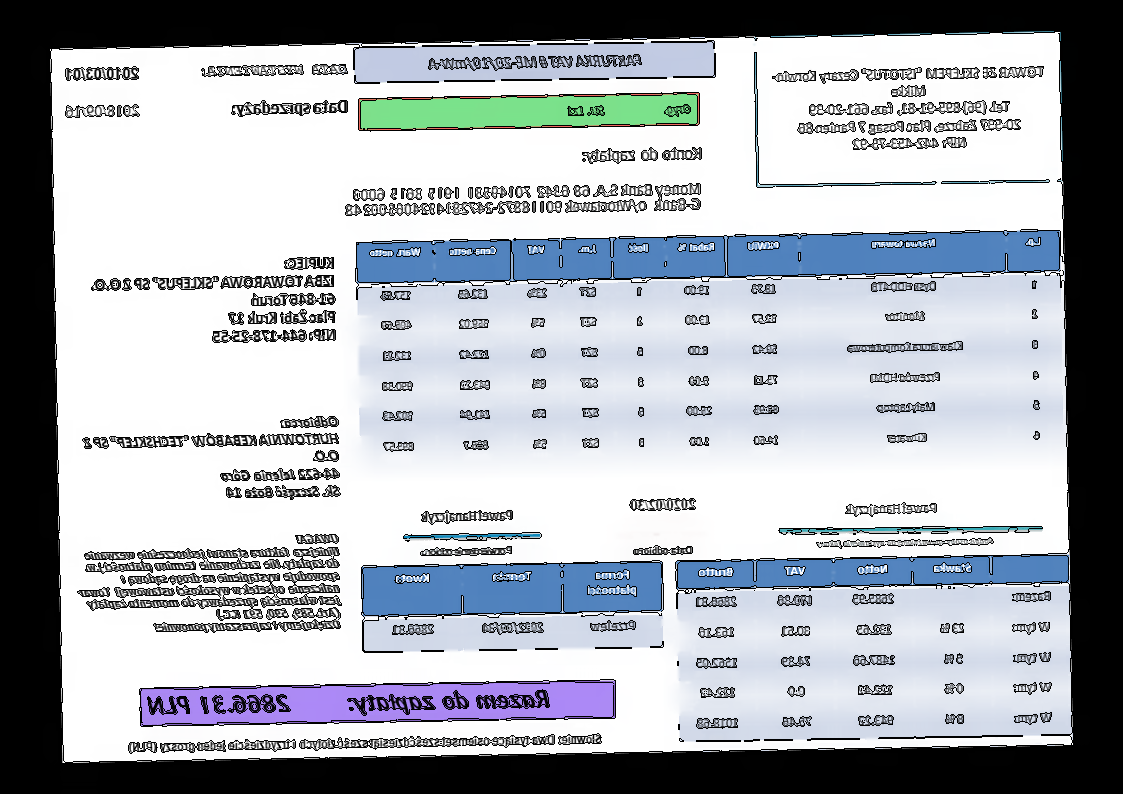Table: (355, 227, 1066, 468), (675, 553, 1072, 743), (361, 560, 664, 653)
TextBox: (73, 530, 342, 637), (771, 64, 1047, 153), (89, 252, 339, 348), (83, 412, 342, 504), (144, 684, 553, 722), (342, 181, 704, 218), (126, 730, 604, 757), (425, 52, 644, 74), (199, 60, 348, 81), (816, 534, 997, 551), (581, 144, 705, 166), (229, 97, 350, 119), (565, 102, 693, 120), (420, 507, 516, 527), (844, 498, 939, 517), (62, 102, 141, 121), (66, 64, 142, 83), (419, 544, 515, 559), (629, 495, 697, 515), (632, 543, 695, 557)
